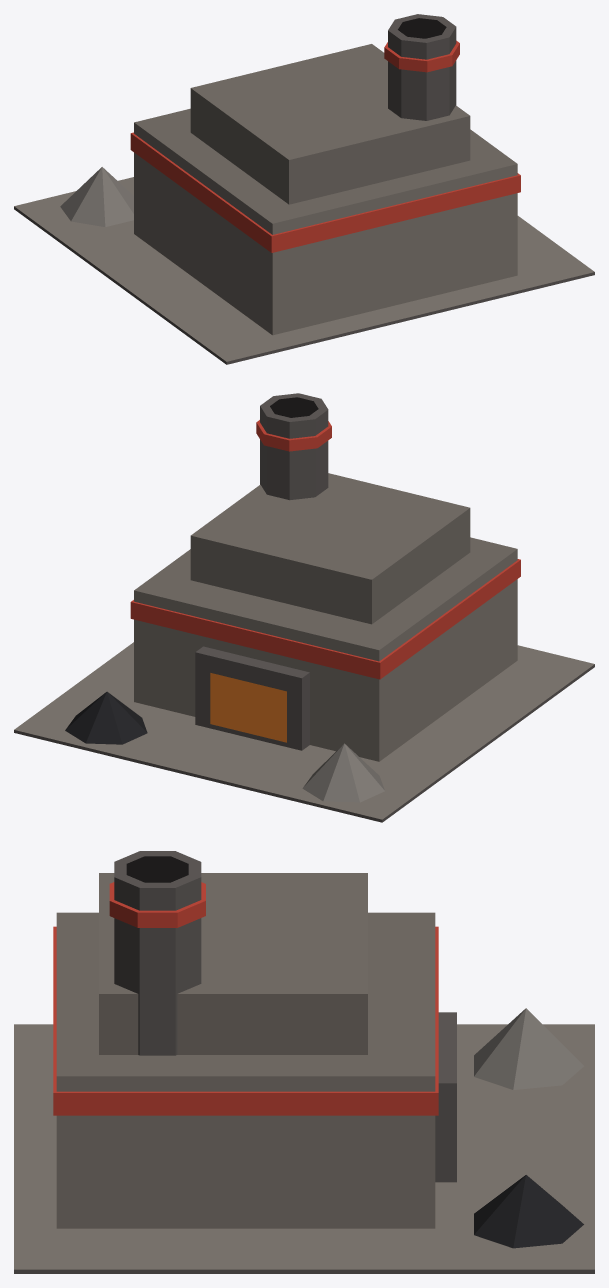
The model's file is smelter_1.obj.
3 views of the same model, one above another, from view 1: azimuth 30°, elevation 25°; view 2: azimuth 150°, elevation 25°; view 3: azimuth 270°, elevation 25° (orthographic). The views are drawn at different scales.
Size of the model in its own units: 3.8 by 2.34 by 3.8.
